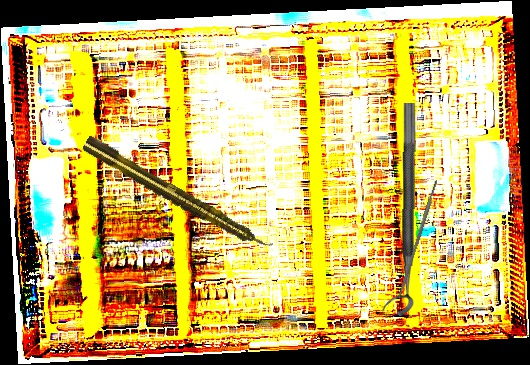Fixation Ring: (381, 102, 418, 316)
Handpiece: (80, 133, 276, 258)
Scalpel Handle: (396, 179, 440, 300)
